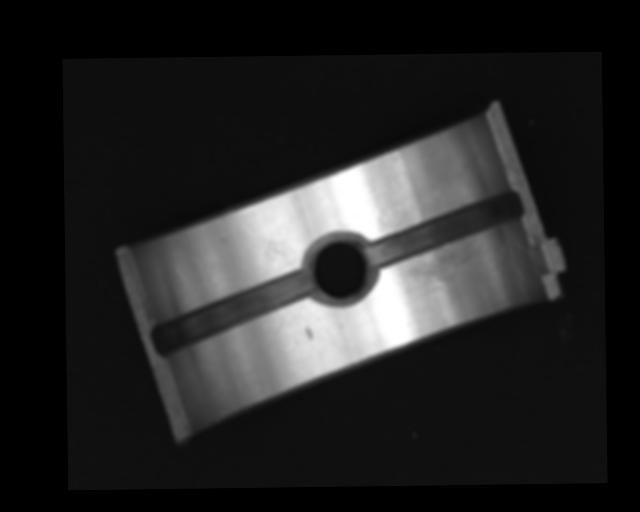bruise: (305, 326, 314, 341)
gap: (152, 269, 313, 356), (366, 190, 524, 264)
hole: (304, 232, 375, 305)
scratch: (396, 239, 490, 286)
